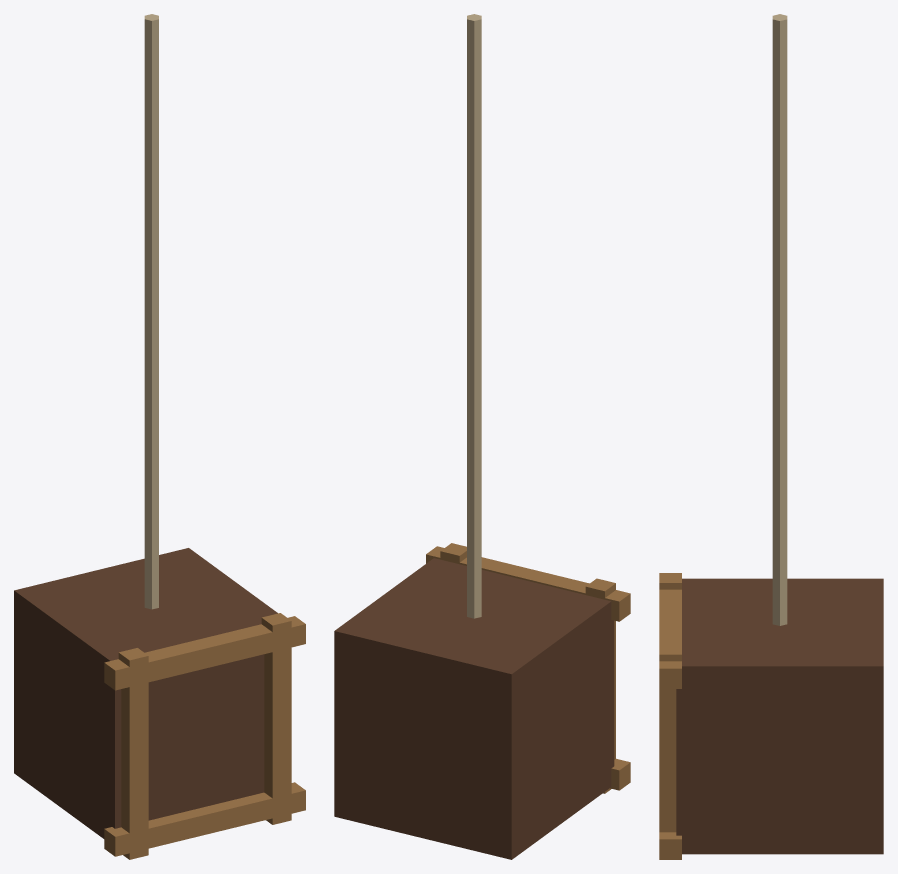
File: PirateCove_CargoSwingWeight_Simple.glb
3 views of the same model, side by side, from view 1: azimuth 30°, elevation 25°; view 2: azimuth 150°, elevation 25°; view 3: azimuth 270°, elevation 25° (orthographic). The views are drawn at different scales.
Parts seen in each view (by area): view 1: PirateCove_CargoSwingWeight_Simple; view 2: PirateCove_CargoSwingWeight_Simple; view 3: PirateCove_CargoSwingWeight_Simple.
Boxes of the visible parts, left/top/right/bottom form: PirateCove_CargoSwingWeight_Simple: left=14, top=14, right=305, bottom=859; PirateCove_CargoSwingWeight_Simple: left=334, top=14, right=630, bottom=859; PirateCove_CargoSwingWeight_Simple: left=659, top=14, right=883, bottom=859.
Size of the model in its own units: 1.2 by 4.69 by 1.19.
